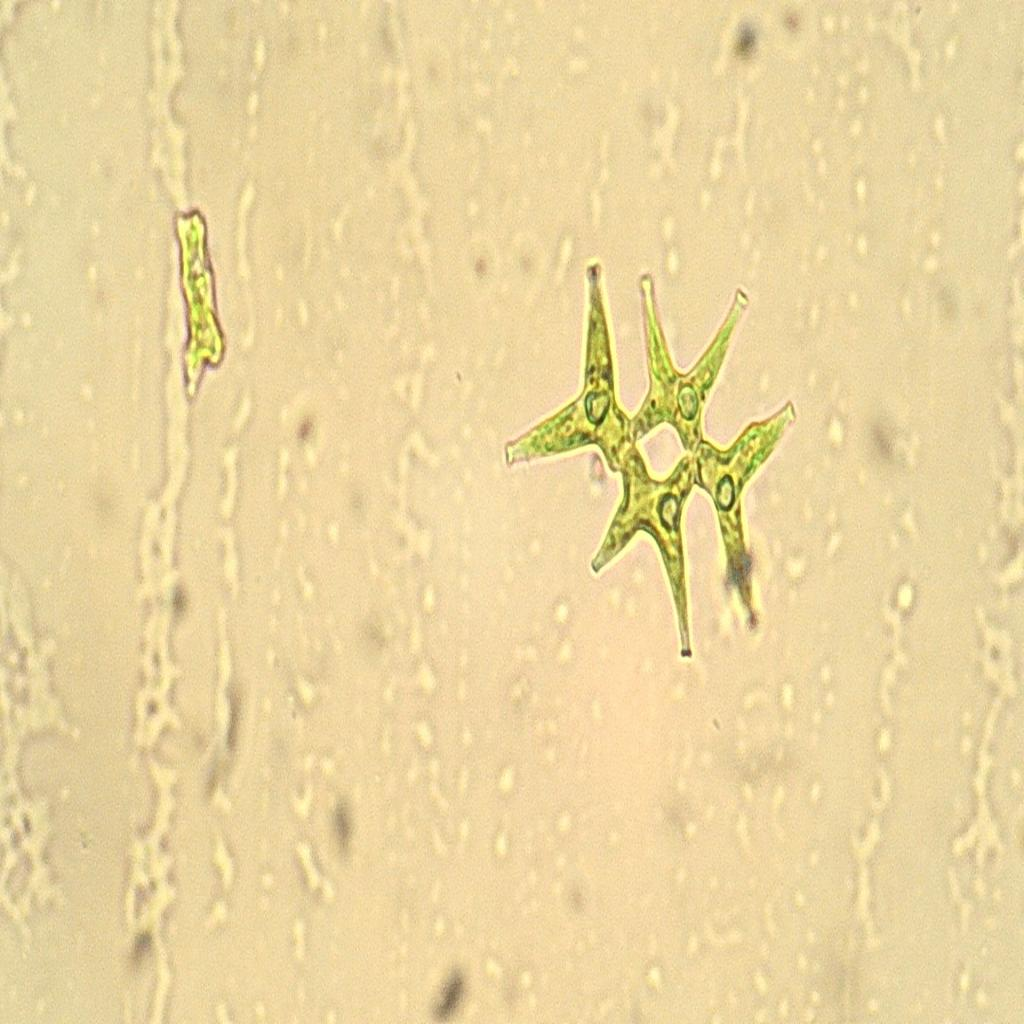Pediastrum_CT: (488, 235, 810, 678)
